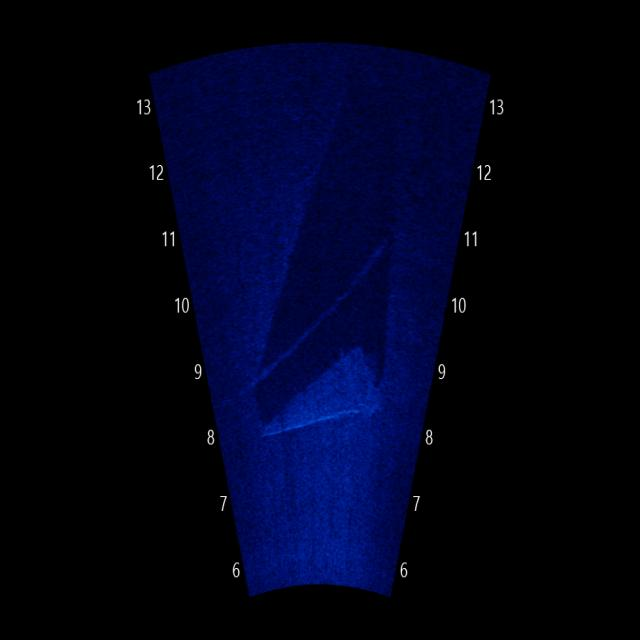circle: (399, 146, 442, 204), (276, 78, 318, 127)
triangle: (251, 331, 387, 452)
